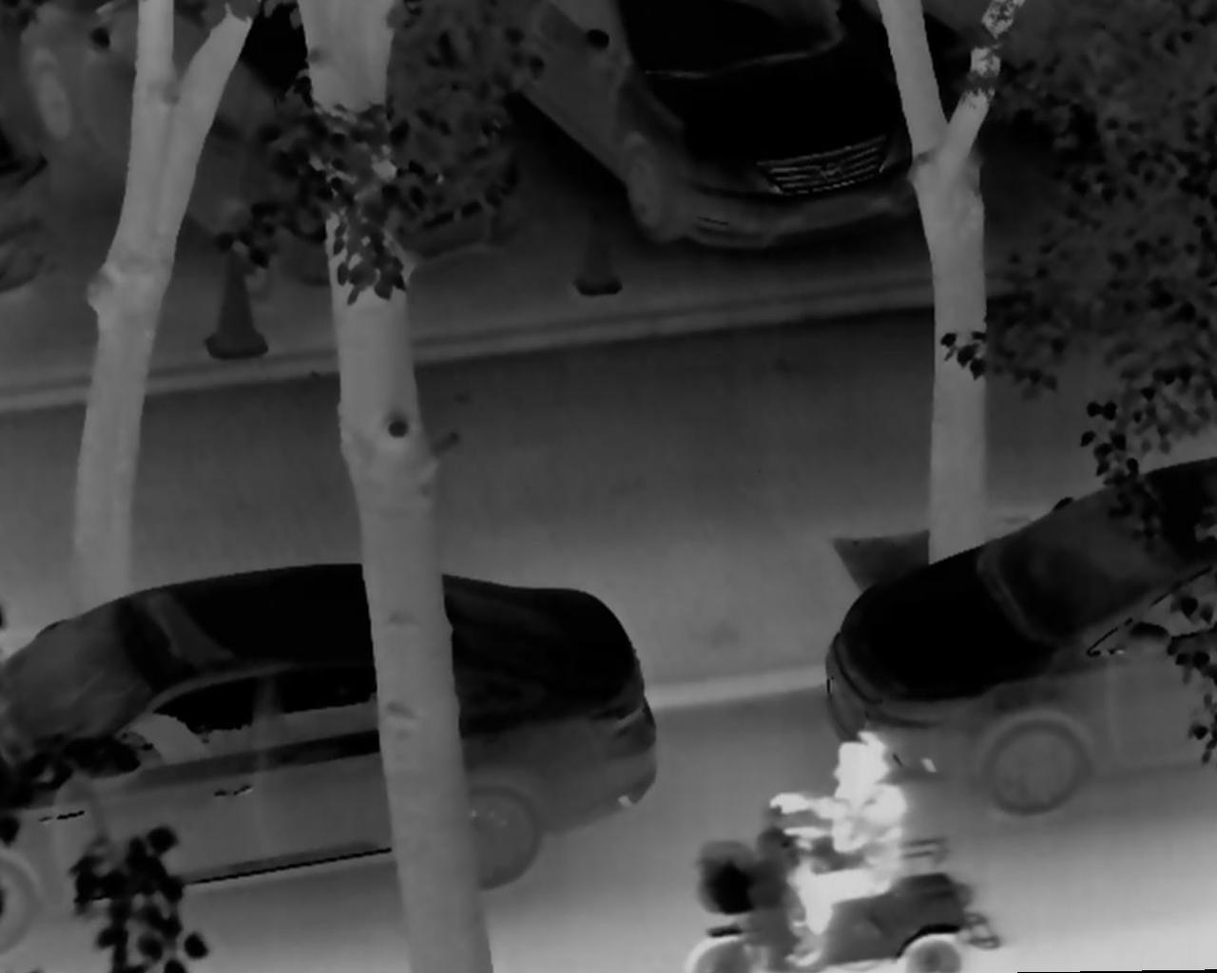person: (769, 724, 909, 970)
